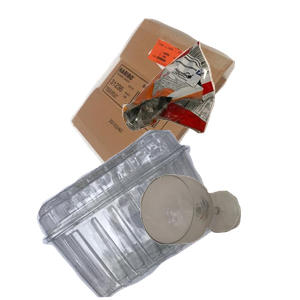cardboard: (67, 16, 295, 196)
glass: (138, 172, 300, 300)
plastic: (34, 130, 246, 300)
trash: (120, 38, 300, 164)
